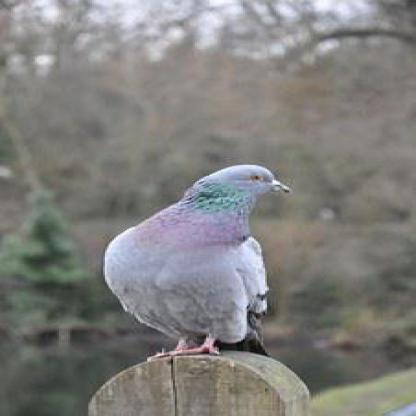Flying Rat: (95, 168, 293, 362)
